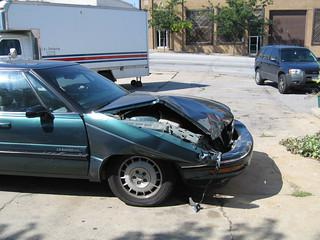bonnet-dent: (123, 89, 237, 136)
fender-dent: (85, 122, 193, 162)
